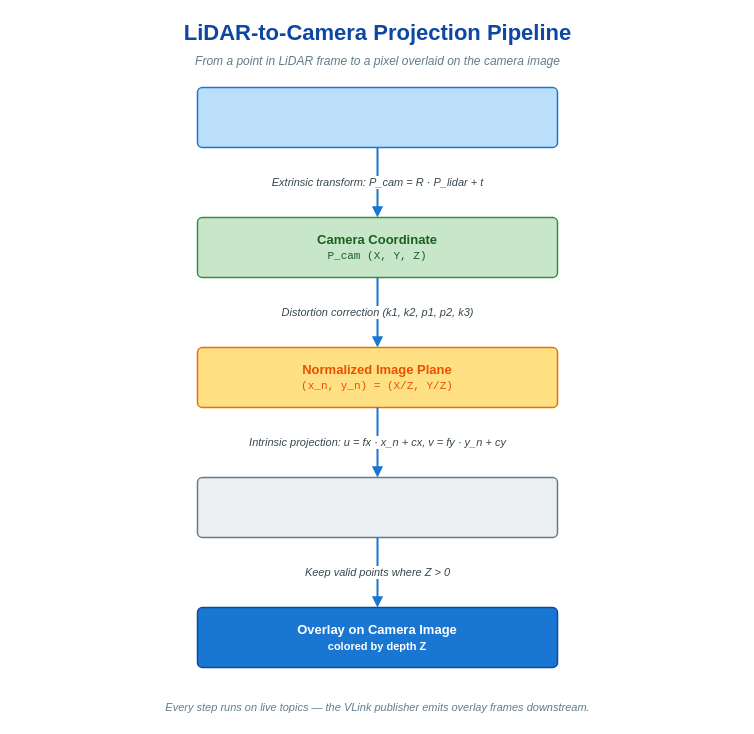
This 754x734 diagram has some shape labels left out. Here are the shapes that lost their labels. From the top down, the centre of each, then its label:
At point 377,117: "LiDAR Point Cloud P_lidar (x, y, z)".
At point 377,507: "Image Pixel Coordinates (u, v)".
